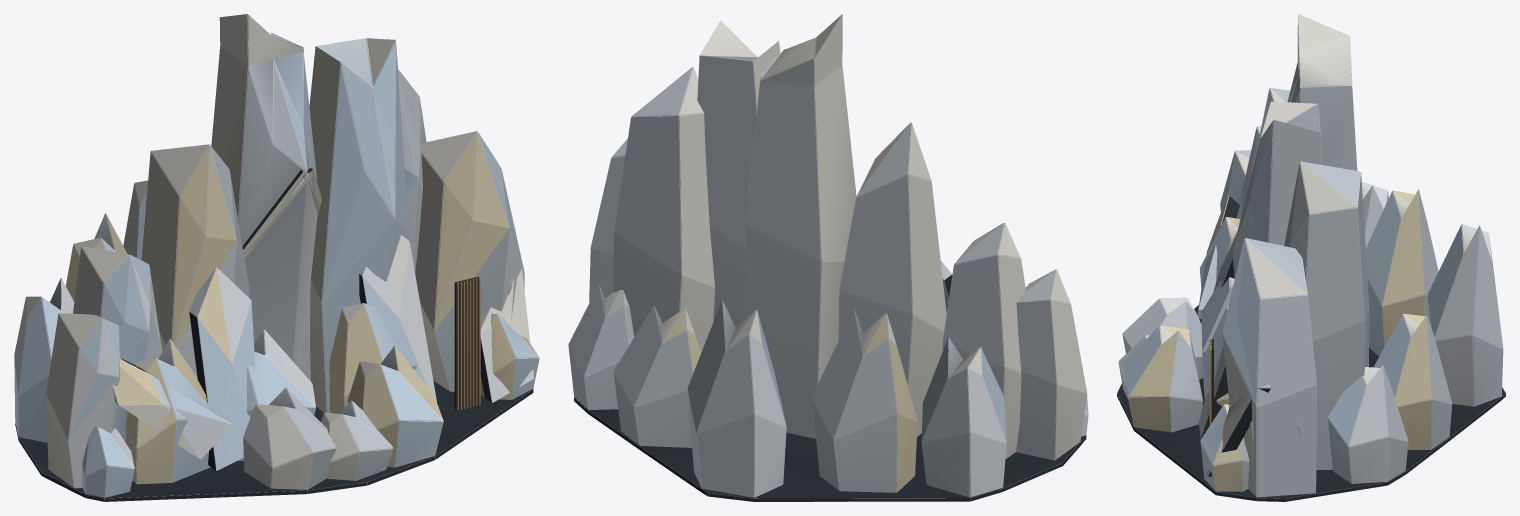
File: projection-crystals-v11.glb
The picture shows the model from 3 angles, left to right: view 1: azimuth 30°, elevation 25°; view 2: azimuth 150°, elevation 25°; view 3: azimuth 270°, elevation 25°; orthographic projection. The views are drawn at different scales.
Parts seen in each view (by area): view 1: Projection Crystals | white projected sculpted facade | pale, Projection Crystals | ivory sculpted return, Projection Crystals | white projected sculpted facade, Projection Crystals | mapped amber primary facet, Projection Crystals | crystal brushed silver facet, Projection Crystals | dark crystal recessed joint, Projection Crystals | crystal champagne gold facet; view 2: Projection Crystals | crystal brushed silver facet, Projection Crystals | ivory sculpted return, Projection Crystals | white projected sculpted facade, Projection Crystals | dark crystal recessed joint, Projection Crystals | mapped amber primary facet, Projection Crystals | white projected sculpted facade | pale; view 3: Projection Crystals | crystal brushed silver facet, Projection Crystals | white projected sculpted facade | pale, Projection Crystals | white projected sculpted facade, Projection Crystals | mapped amber primary facet, Projection Crystals | ivory sculpted return, Projection Crystals | dark crystal recessed joint.
Part boxes in pixels (x1=…): Projection Crystals | white projected sculpted facade | pale: x1=18, y1=42, x2=539, y2=497; Projection Crystals | ivory sculpted return: x1=26, y1=14, x2=533, y2=489; Projection Crystals | white projected sculpted facade: x1=14, y1=14, x2=539, y2=501; Projection Crystals | mapped amber primary facet: x1=66, y1=133, x2=538, y2=483; Projection Crystals | crystal brushed silver facet: x1=50, y1=32, x2=509, y2=489; Projection Crystals | dark crystal recessed joint: x1=15, y1=168, x2=533, y2=501; Projection Crystals | crystal champagne gold facet: x1=457, y1=277, x2=480, y2=410; Projection Crystals | crystal brushed silver facet: x1=568, y1=50, x2=1056, y2=497; Projection Crystals | ivory sculpted return: x1=606, y1=14, x2=1086, y2=459; Projection Crystals | white projected sculpted facade: x1=568, y1=14, x2=1088, y2=501; Projection Crystals | dark crystal recessed joint: x1=574, y1=275, x2=1086, y2=501; Projection Crystals | mapped amber primary facet: x1=663, y1=308, x2=917, y2=491; Projection Crystals | white projected sculpted facade | pale: x1=757, y1=312, x2=1088, y2=441; Projection Crystals | crystal brushed silver facet: x1=1118, y1=53, x2=1502, y2=496; Projection Crystals | white projected sculpted facade | pale: x1=1124, y1=74, x2=1463, y2=490; Projection Crystals | white projected sculpted facade: x1=1117, y1=15, x2=1504, y2=501; Projection Crystals | mapped amber primary facet: x1=1129, y1=190, x2=1431, y2=491; Projection Crystals | ivory sculpted return: x1=1146, y1=14, x2=1472, y2=474; Projection Crystals | dark crystal recessed joint: x1=1117, y1=196, x2=1505, y2=501.
Size of the model in its own units: 4.3 by 3.54 by 3.35.
